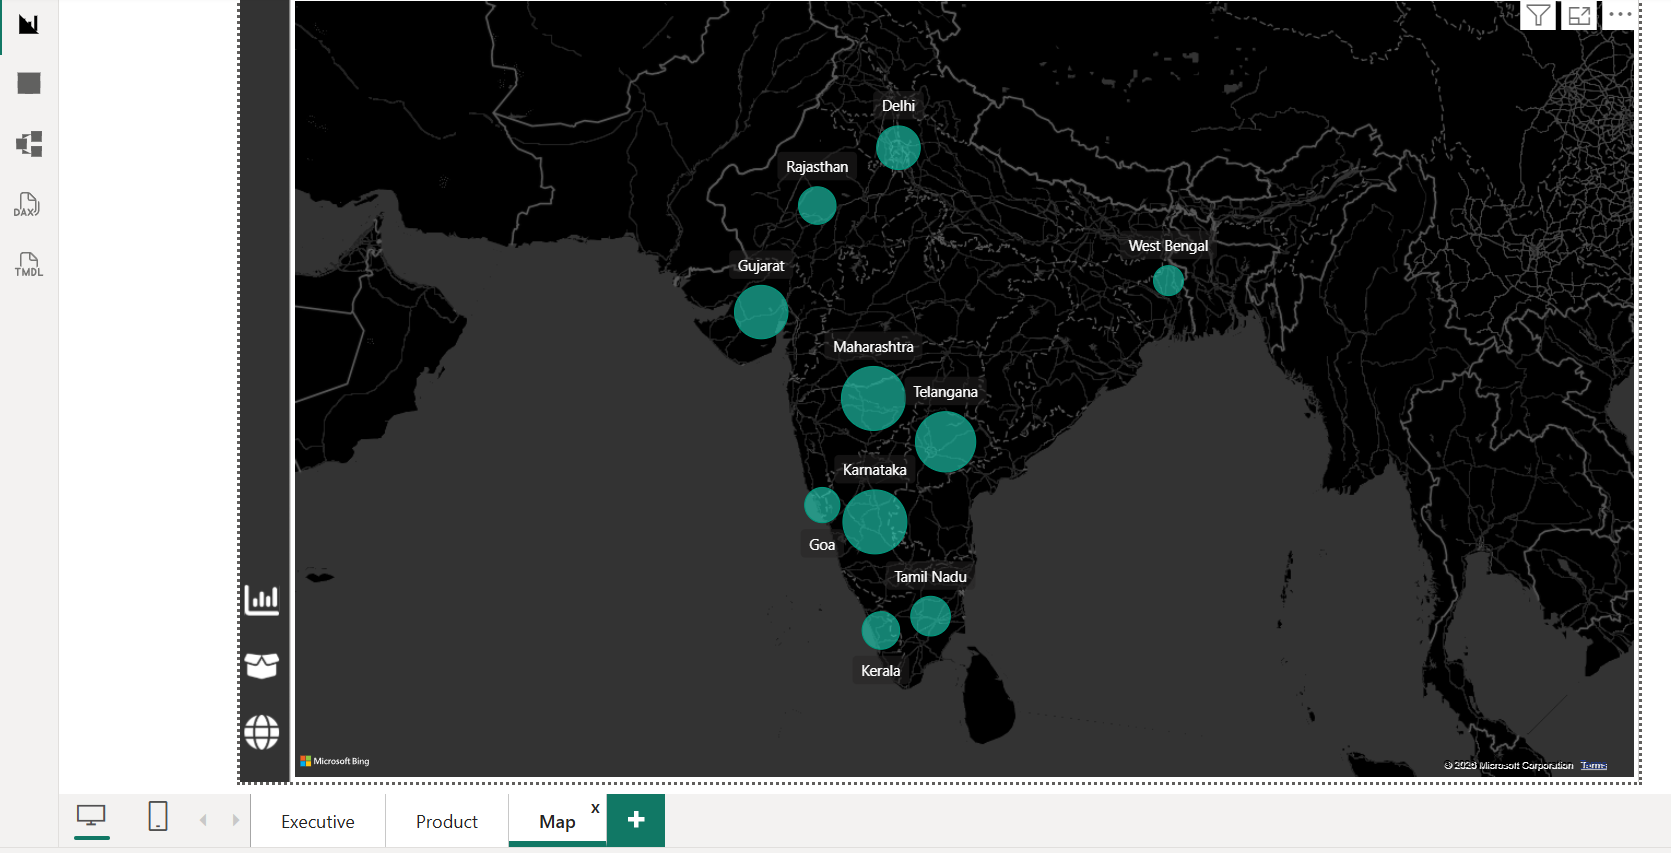

The dashboard page shown, as its layout file describes it:
{"tool":"powerbi","page":{"name":"Map","canvas":[1280,720],"ordinal":2},"visuals":[{"type":"map","fields":{"Category":["users.Map State"],"Size":["Meaure Table.TotalOrders"]},"box":[45.3,0,1235.1,720.5],"z":0},{"type":"actionButton","box":[0,534.3,54.9,39.8],"z":0,"group":"g1"},{"type":"shape","box":[0,0,45.3,720.5],"z":1000},{"type":"actionButton","box":[0,594.7,54.9,39.8],"z":1000,"group":"g1"},{"type":"group","id":"g1","title":"Navigation Buttons","box":[0,534.3,54.9,160.6],"z":2000},{"type":"actionButton","box":[0,655.1,54.9,39.8],"z":2000,"group":"g1"}]}

Visuals, with their boxes on the page's 1280x720 design canvas (x1, y1, x2, y2). These are canvas units, not pixel positions in the 1671x853 screenshot, which may show the page scaled, cropped or inside an application window:
map - users.Map State x Meaure Table.TotalOrders: pyautogui.locateOnScreen(45, 0, 1280, 720)
actionButton: pyautogui.locateOnScreen(0, 534, 55, 574)
shape: pyautogui.locateOnScreen(0, 0, 45, 720)
actionButton: pyautogui.locateOnScreen(0, 595, 55, 634)
"Navigation Buttons" group: pyautogui.locateOnScreen(0, 534, 55, 695)
actionButton: pyautogui.locateOnScreen(0, 655, 55, 695)
